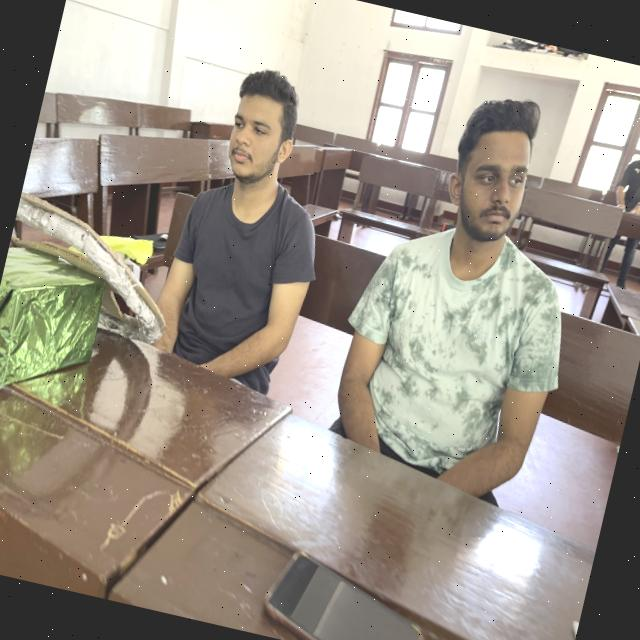no-seatbelt: (312, 218, 580, 518), (144, 174, 326, 410)
